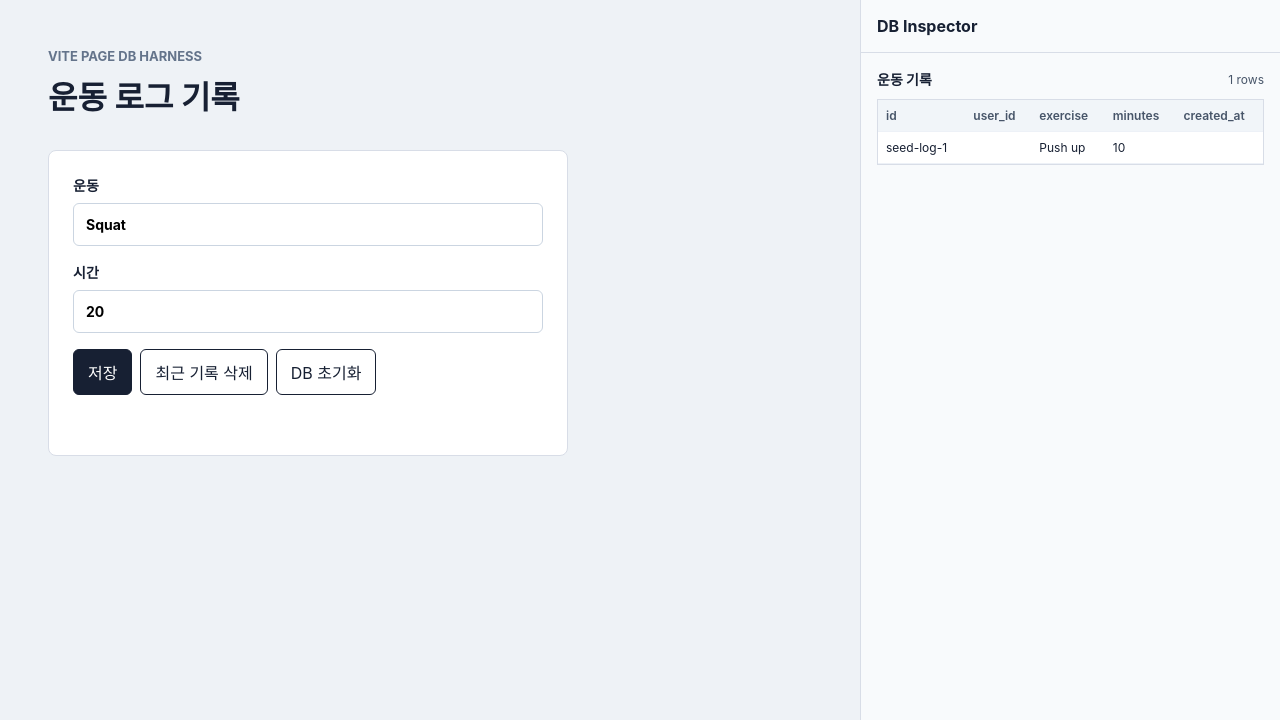
Test: App › shows a reset failure instead of replacing the snapshot with an error payload
Expected: the text "Push up" is shown, [1031, 132, 1105, 164]
Click the button "DB 초기화": (326, 372) [276, 349, 376, 395]
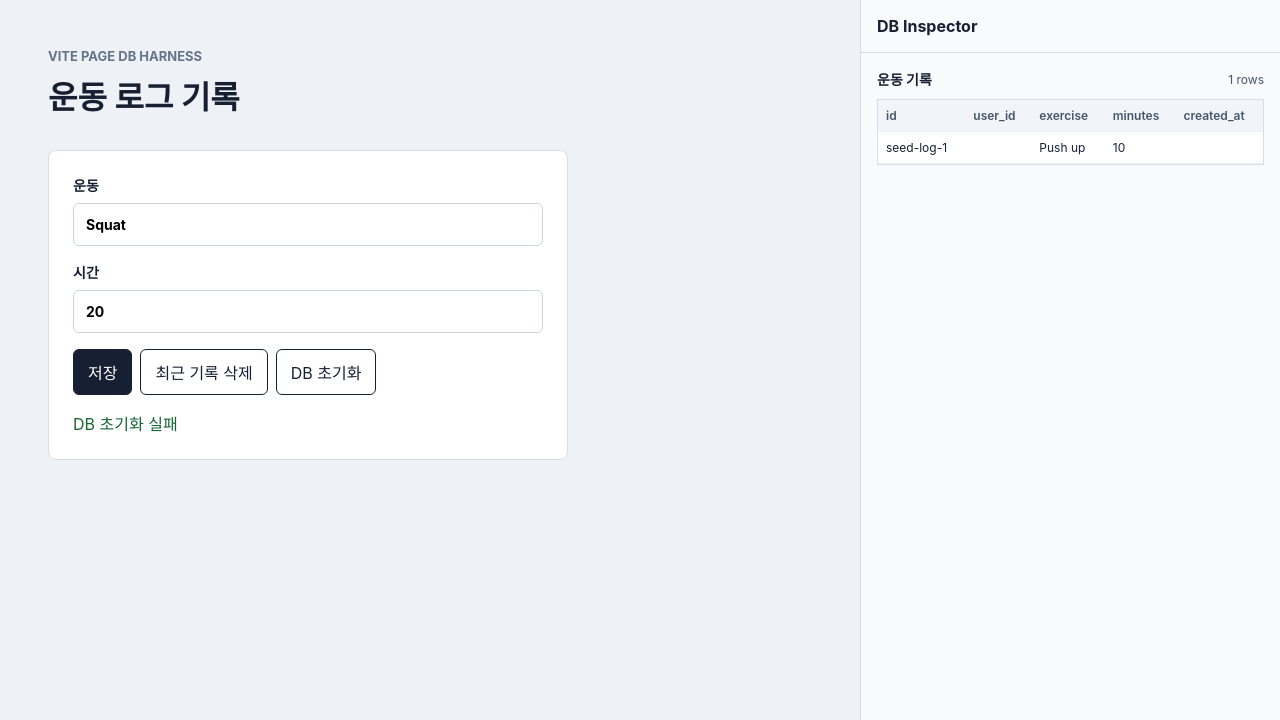
Expected: the text "Push up" is shown, [1031, 132, 1105, 164]
Expected: the text "DB 초기화 실패" is shown, [73, 414, 178, 434]
